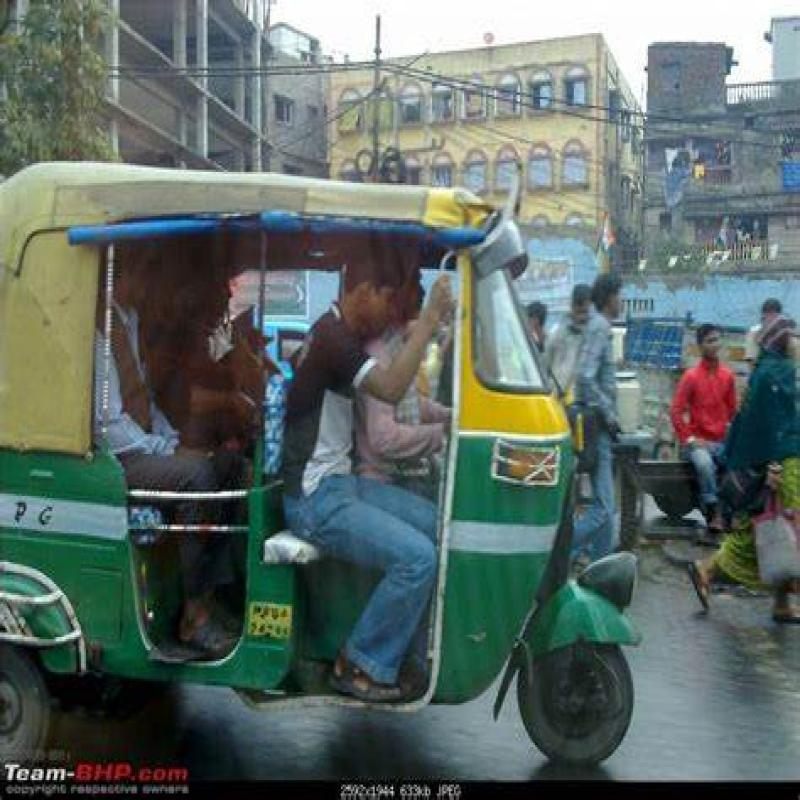auto: (20, 135, 606, 780)
